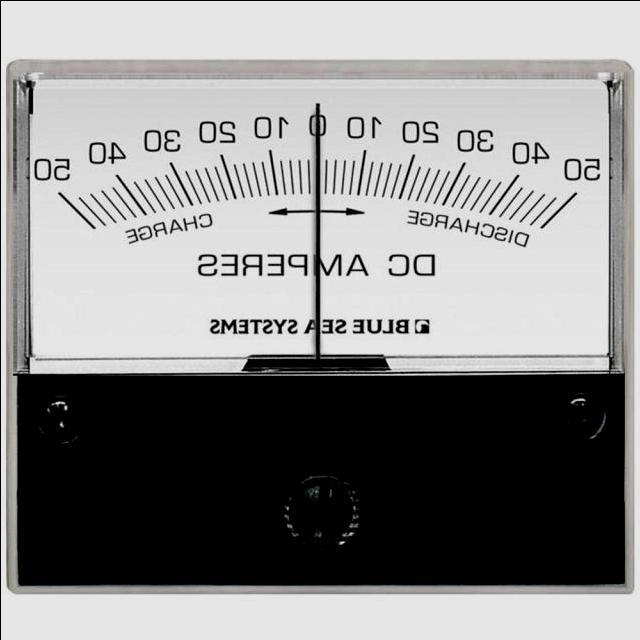Needle_Tip: (288, 92, 347, 143)
Needle_base: (253, 324, 379, 420)
max_value: (15, 149, 79, 198)
min_value: (548, 143, 613, 201)
